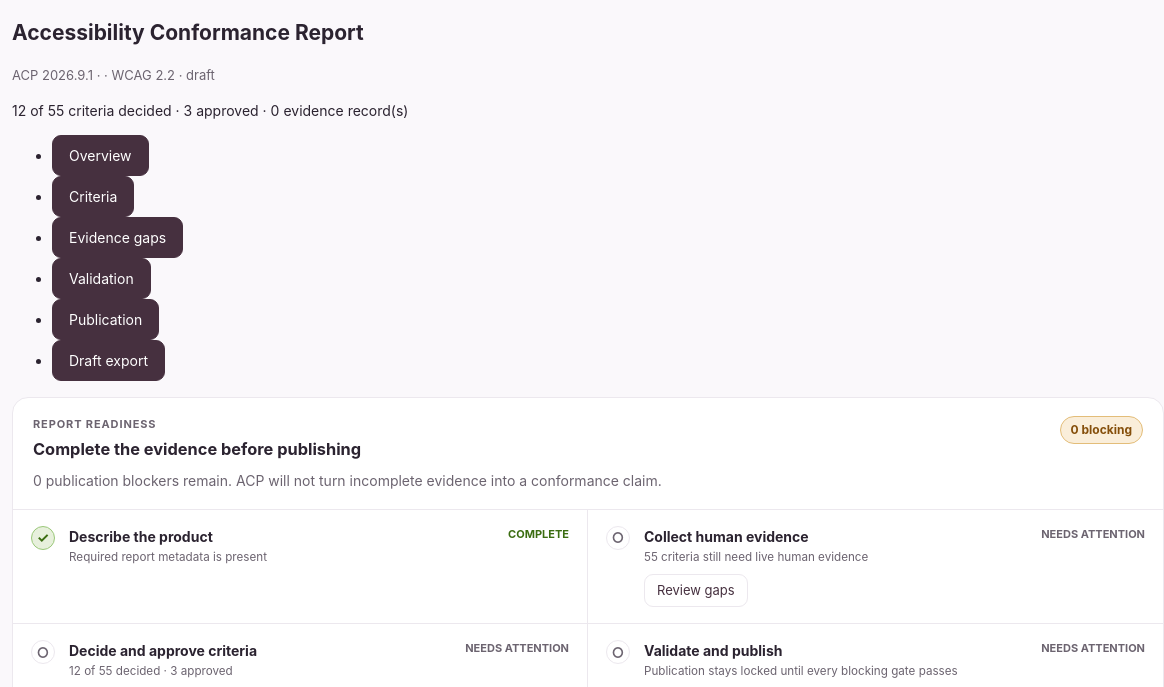
Test case: the export accessibility gate › says the verdict is unknown when the gate itself could not be reached
The width and height of the screenshot is (1164, 687).
What coordinates should you click on to do the following:
click the button "Draft export"
I would click on:
 (108, 360)
Its box is x1=52 y1=340 x2=165 y2=381.
(page scrolled)
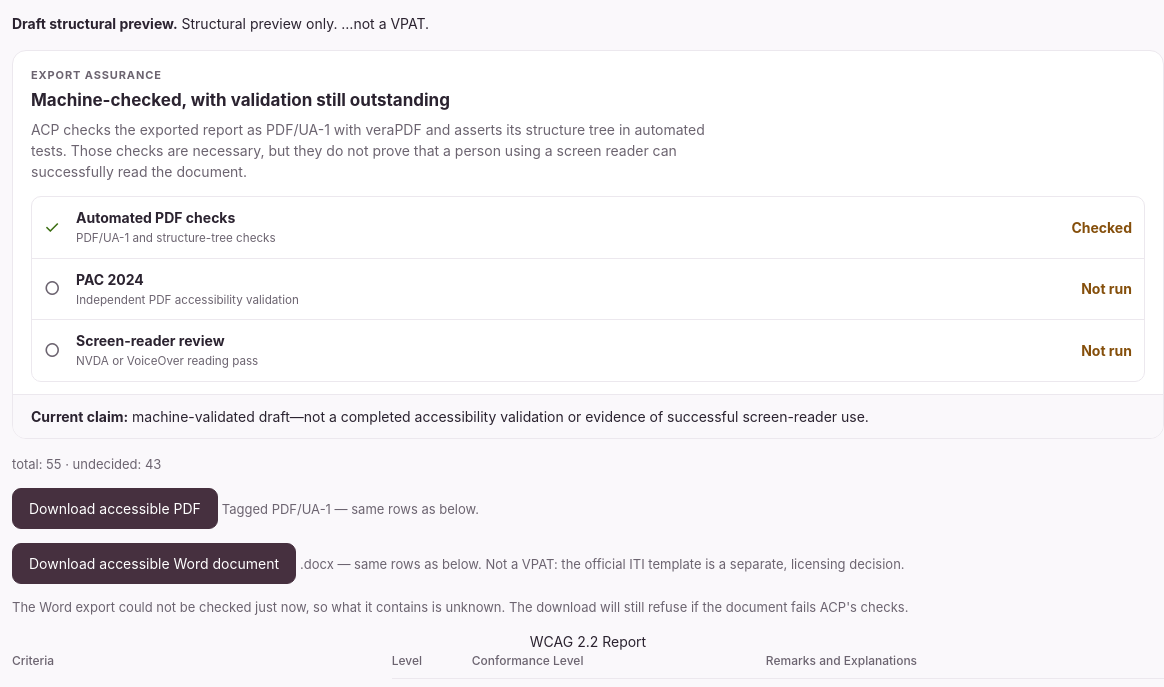
Check: the text "could not be checked" is shown, box x1=12 y1=599 x2=908 y2=615
Check: the button "Download accessible Word document" is enabled, box x1=12 y1=543 x2=296 y2=584
